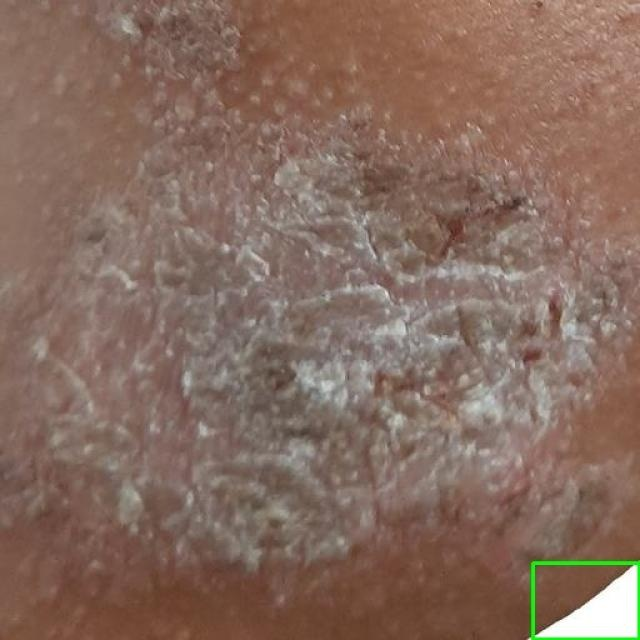Contact Dermatitis: (532, 562, 639, 639)
